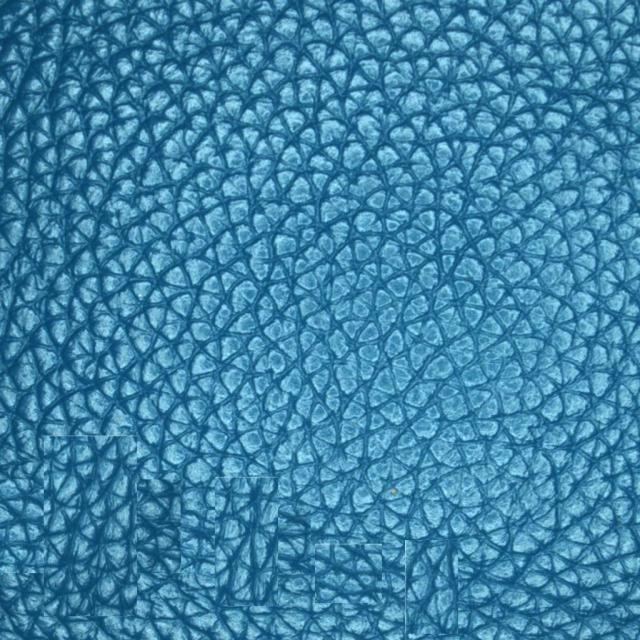Healed Injury: (106, 454, 219, 615), (360, 477, 494, 604)
